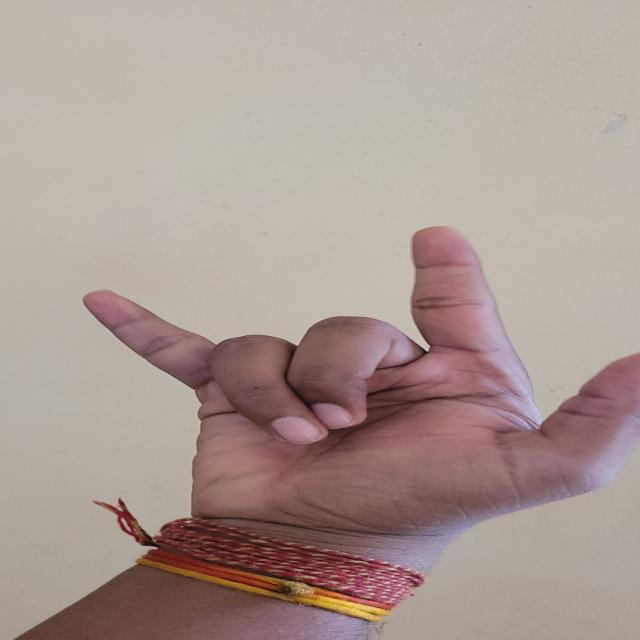i like you: (11, 196, 636, 567)
